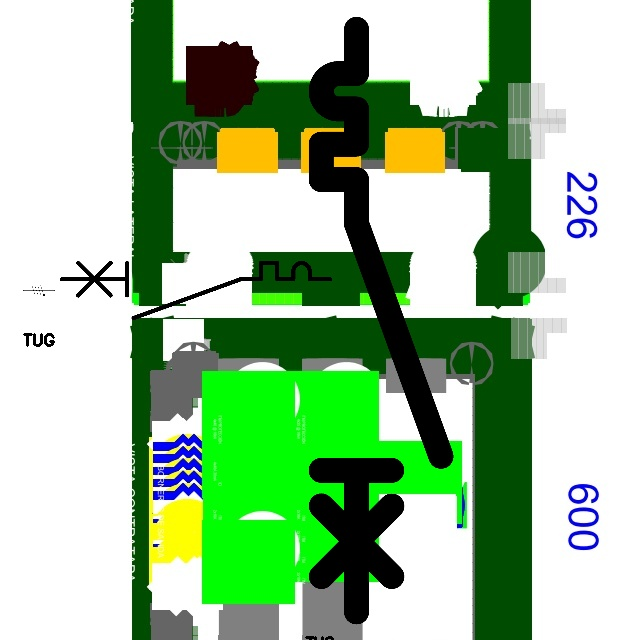interruptor_termomagnetico: (306, 14, 456, 627), (54, 256, 336, 325)
